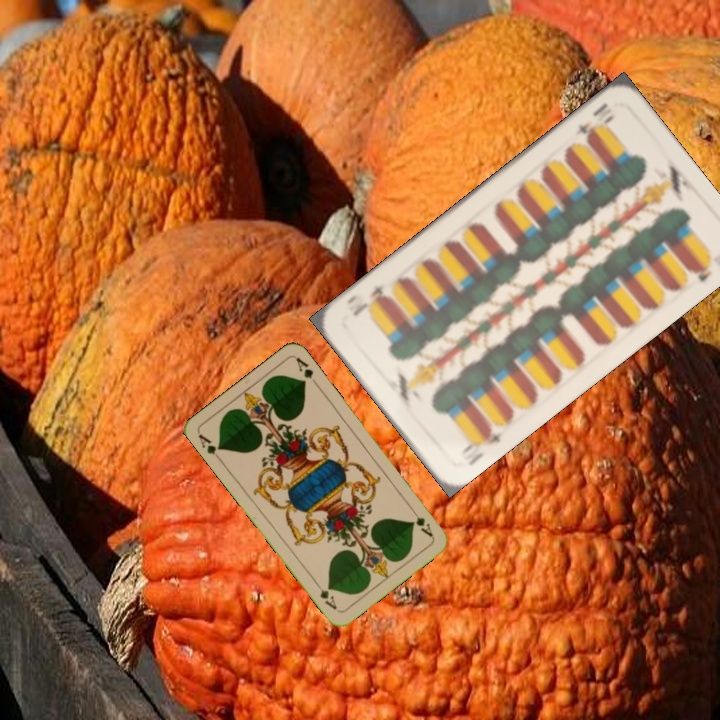E10: (457, 421, 505, 469), (571, 111, 617, 143)
GA: (194, 429, 225, 464), (407, 504, 435, 540)
